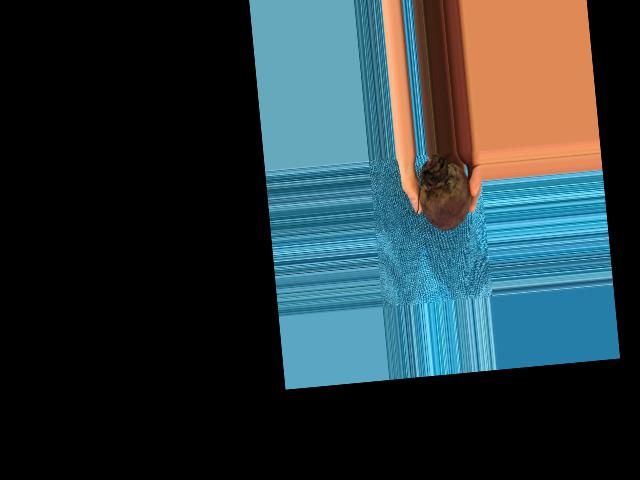beet: (409, 152, 473, 233)
